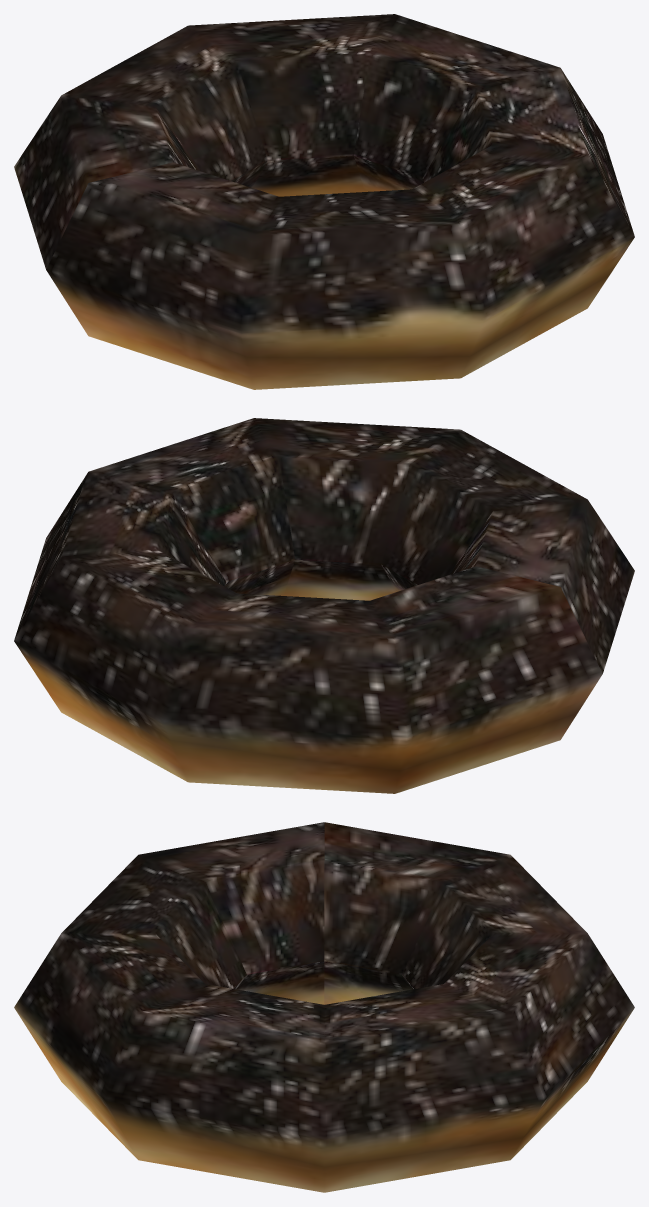
File: Donuts_04.glb
The picture shows the model from 3 angles, top to bottom: view 1: azimuth 30°, elevation 25°; view 2: azimuth 150°, elevation 25°; view 3: azimuth 270°, elevation 25°; orthographic projection. The views are drawn at different scales.
Visible parts, largest first — view 1: Donuts_04; view 2: Donuts_04; view 3: Donuts_04.
Part boxes in pixels (x1,y1,x2,y2): Donuts_04: [14, 14, 634, 389]; Donuts_04: [14, 418, 634, 793]; Donuts_04: [14, 822, 634, 1192].
Size of the model in its own units: 0.1882 by 0.0495 by 0.1882.
1 material, 1 textured.
